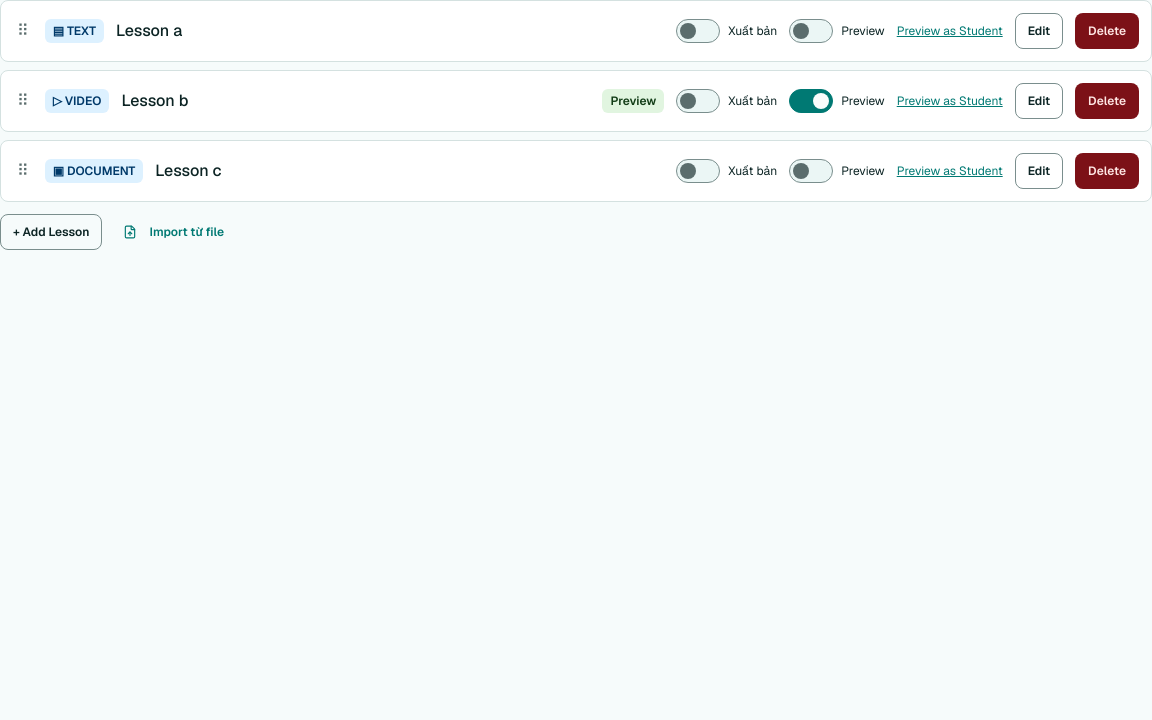
Test: lesson toggles and deletion › confirms before deleting
Expected: the text "Lesson a" is shown, [116,20,182,41]
Click the button with aria-label "Xóa Lesson a".
click(1107, 31)  # box [1075,13,1139,49]
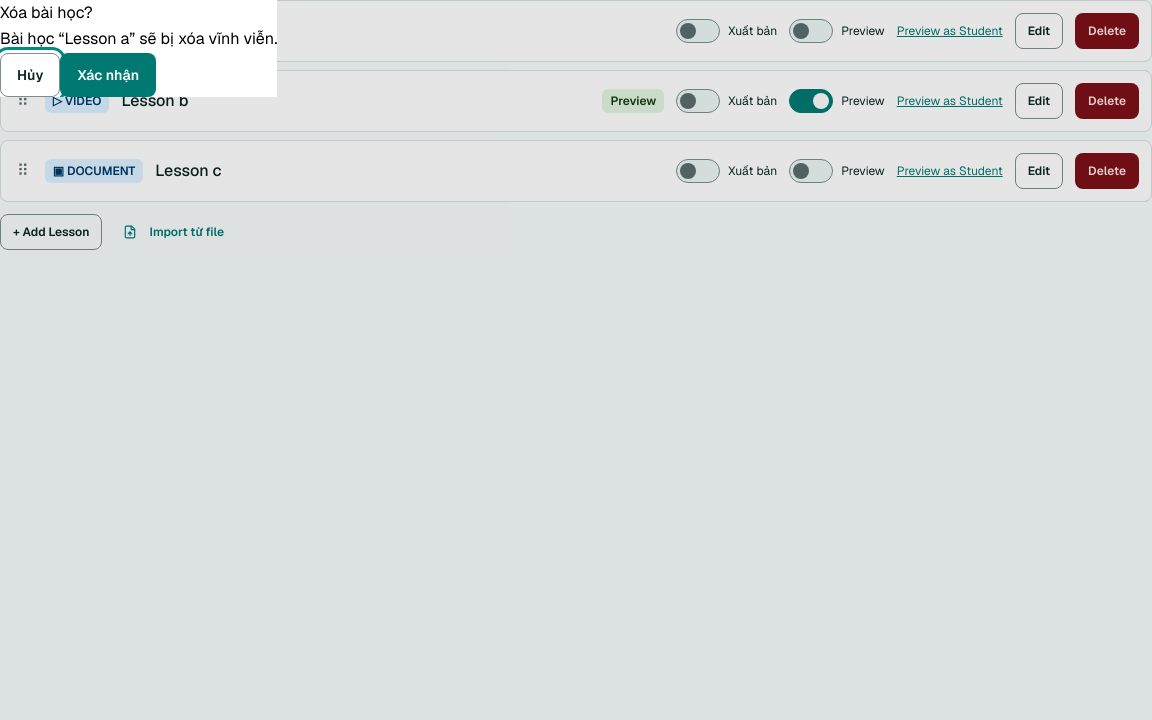
Click the button "Xác nhận".
click(108, 75)  # box [60,53,156,97]
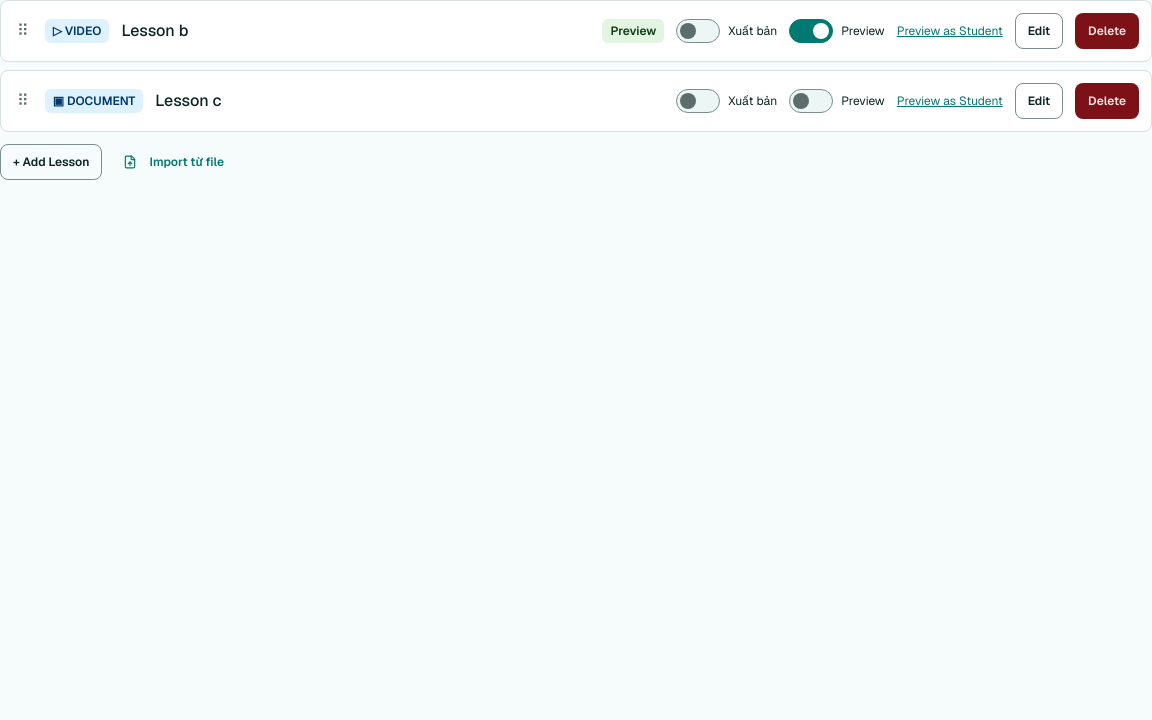
Expected: the text "Lesson a" is gone
